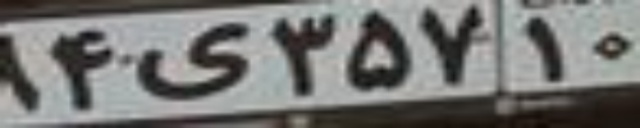0: (589, 31, 632, 59)
1: (525, 13, 564, 81)
3: (270, 13, 335, 96)
4: (49, 30, 118, 110)
5: (347, 11, 411, 89)
7: (418, 4, 487, 84)
8: (0, 34, 42, 113)
mim: (132, 22, 252, 100)
